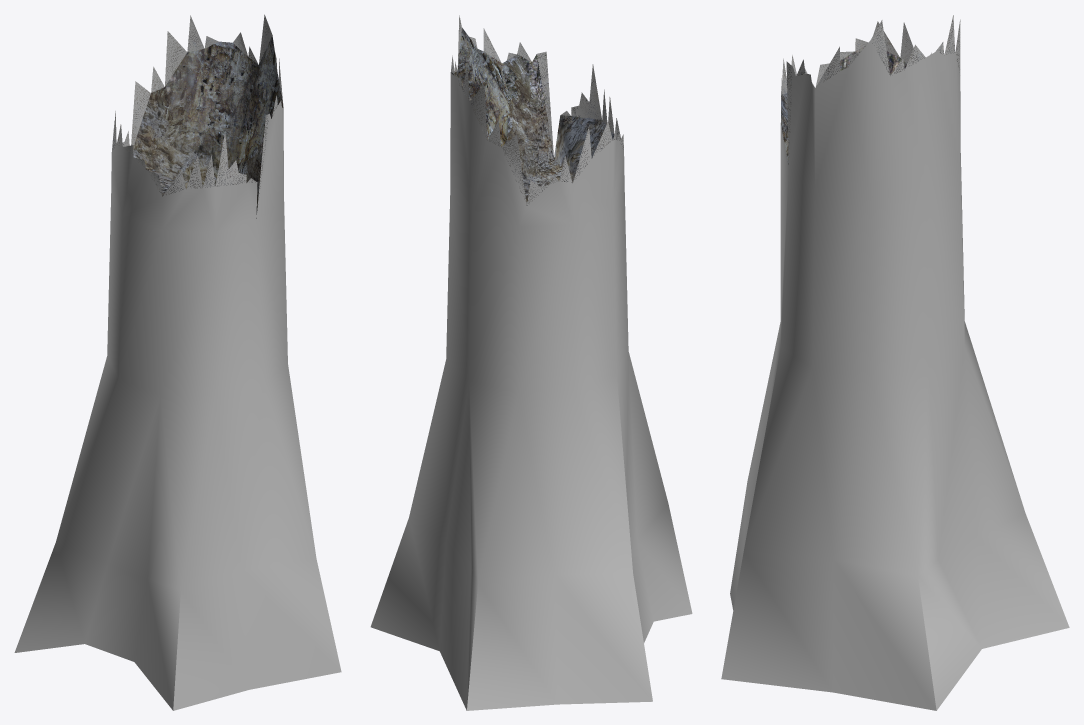
Rendered from Trunk2_LOD.fbx.
The picture shows the model from 3 angles, left to right: view 1: azimuth 30°, elevation 25°; view 2: azimuth 150°, elevation 25°; view 3: azimuth 270°, elevation 25°; orthographic projection. The views are drawn at different scales.
Parts seen in each view (by area): view 1: pCylinder3; view 2: pCylinder3; view 3: pCylinder3.
Part boxes in pixels (x1,y1,x2,y2): pCylinder3: (14, 14, 341, 710); pCylinder3: (370, 15, 692, 710); pCylinder3: (721, 15, 1069, 710).
Size of the model in its own units: 1.98 by 4.04 by 1.93.
